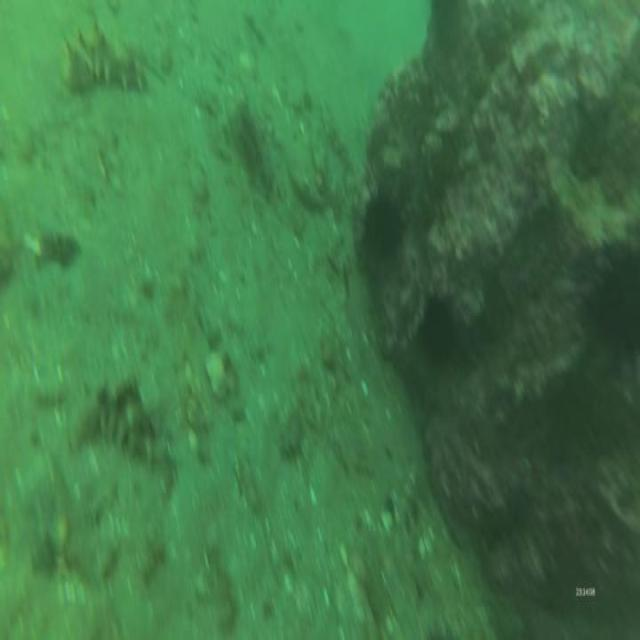echinus: (573, 226, 640, 365), (358, 180, 406, 269), (417, 286, 462, 371)
holothurian: (74, 376, 166, 468), (57, 14, 154, 98)
